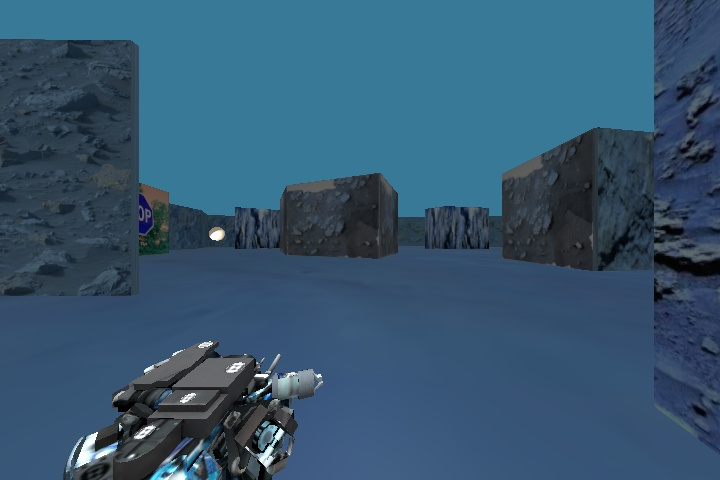stop_sign: (132, 188, 160, 242)
white_sphere: (204, 221, 233, 247)
